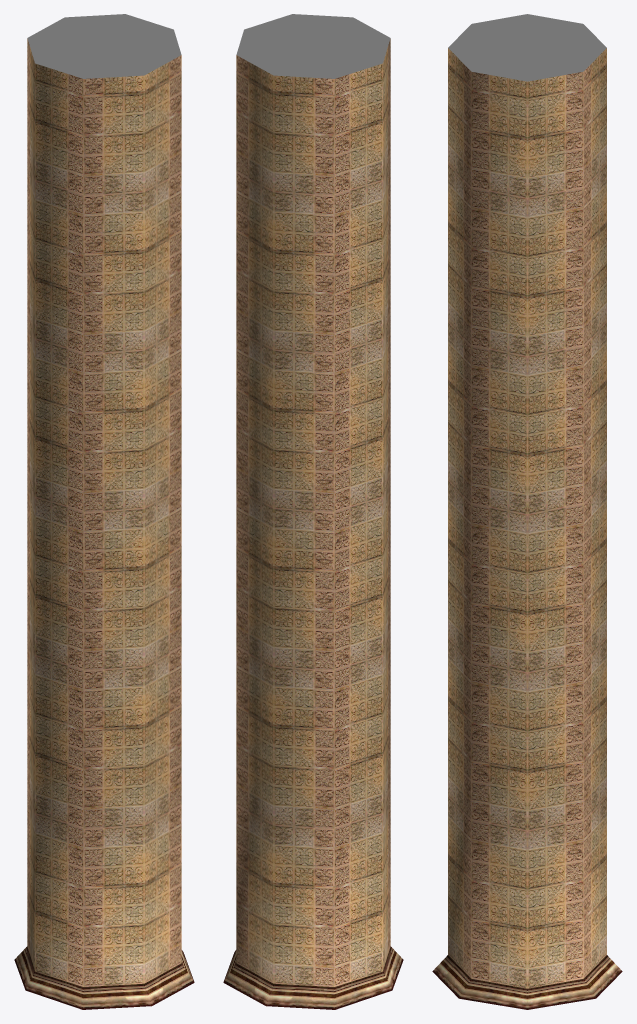
File: PilarBig_full.fbx
3 views of the same model, side by side, from view 1: azimuth 30°, elevation 25°; view 2: azimuth 150°, elevation 25°; view 3: azimuth 270°, elevation 25° (orthographic).
Parts seen in each view (by area): view 1: Cylinder008; view 2: Cylinder008; view 3: Cylinder008.
Boxes of the visible parts, x1,y1,x2,y2 form: Cylinder008: [14, 14, 194, 1009]; Cylinder008: [223, 14, 403, 1009]; Cylinder008: [432, 14, 622, 1009].
Size of the model in its own units: 441 by 2469 by 461.
